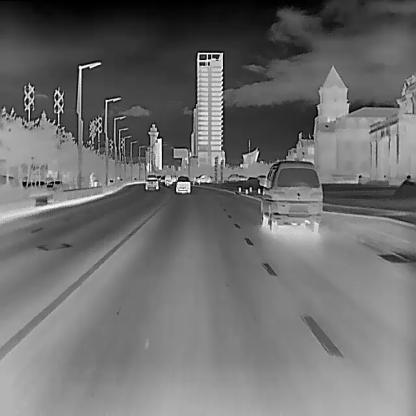car: (256, 160, 323, 233), (175, 175, 189, 193), (144, 174, 158, 189), (196, 173, 211, 183), (165, 172, 172, 185)
